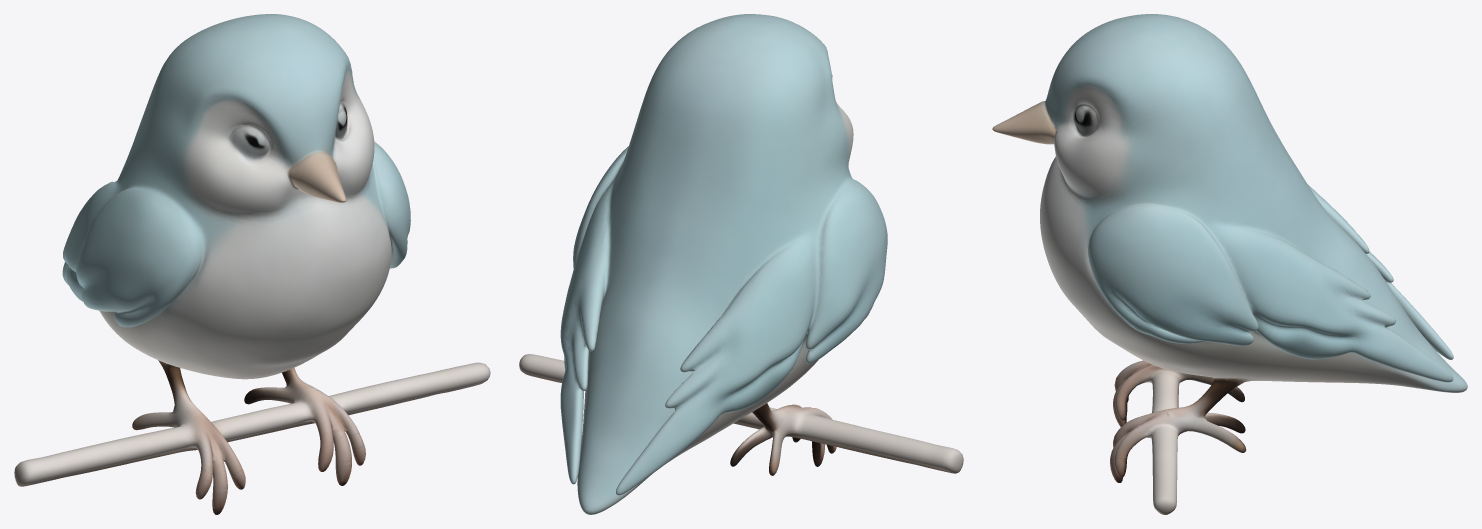
File: bird-reference-source.glb
The picture shows the model from 3 angles, left to right: view 1: azimuth 30°, elevation 25°; view 2: azimuth 150°, elevation 25°; view 3: azimuth 270°, elevation 25°; orthographic projection. The views are drawn at different scales.
Parts seen in each view (by area): view 1: model; view 2: model; view 3: model.
Boxes of the visible parts, x1,y1,x2,y2 form: model: (14,14,490,514); model: (519,14,963,514); model: (992,14,1467,514).
Size of the model in its own units: 1.9 by 1.8 by 1.8.
1 material, 1 textured.
